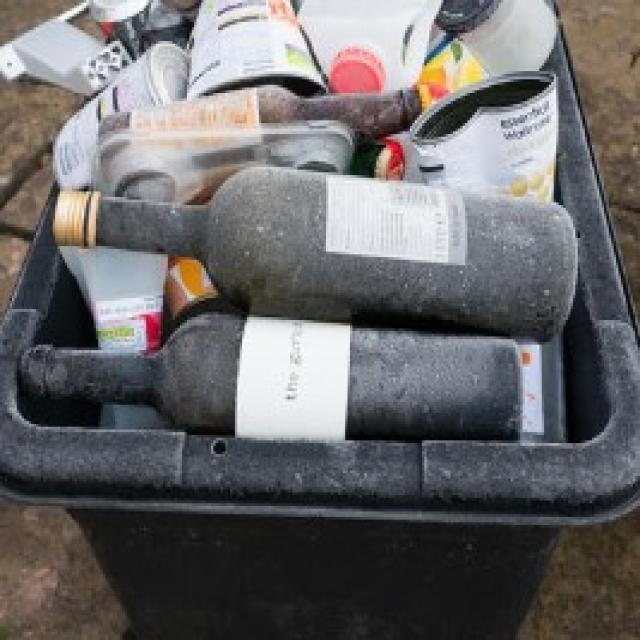electronic: (14, 0, 583, 439)
